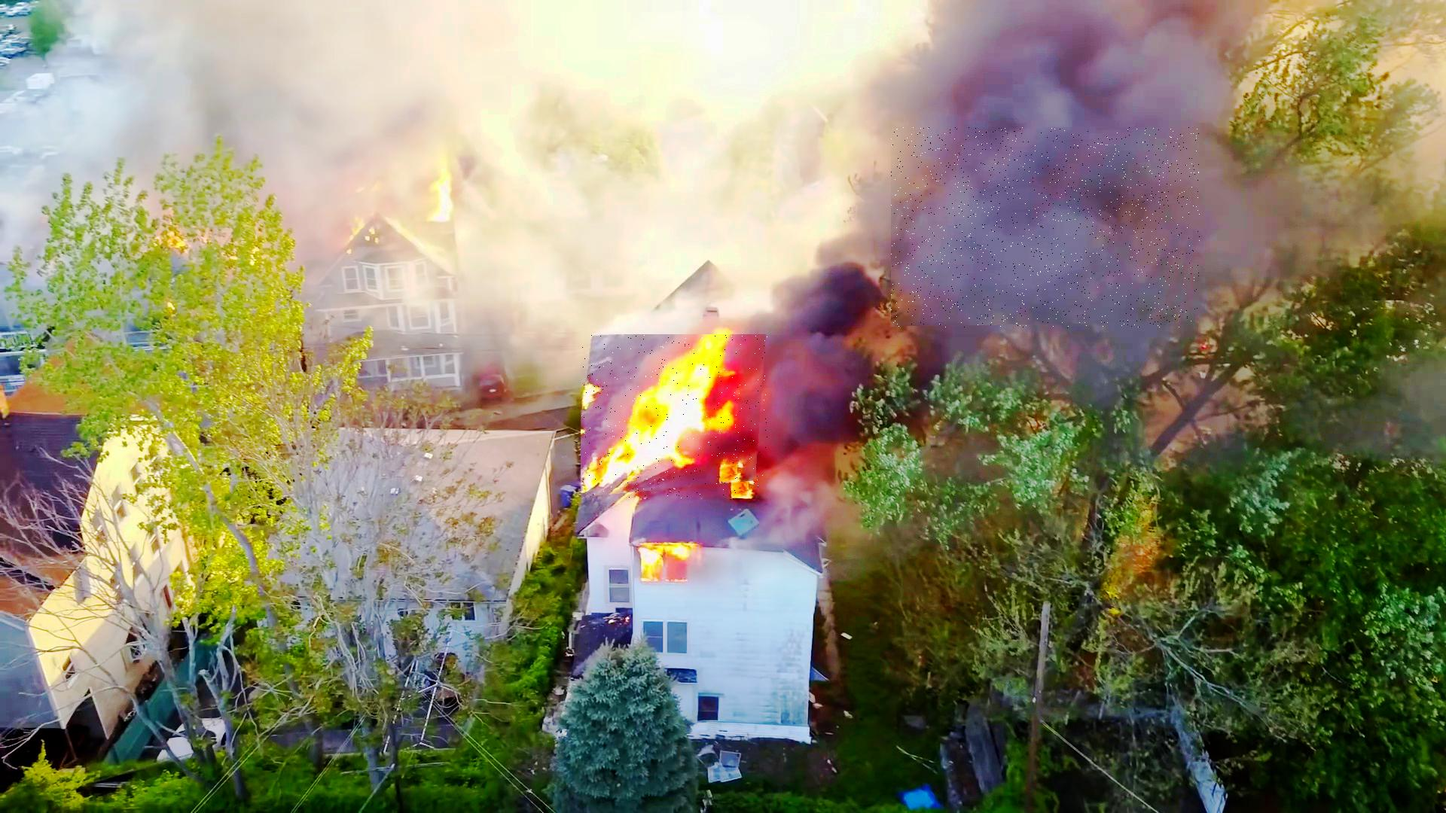fire: (581, 334, 768, 499)
smoke: (891, 128, 1200, 329)
